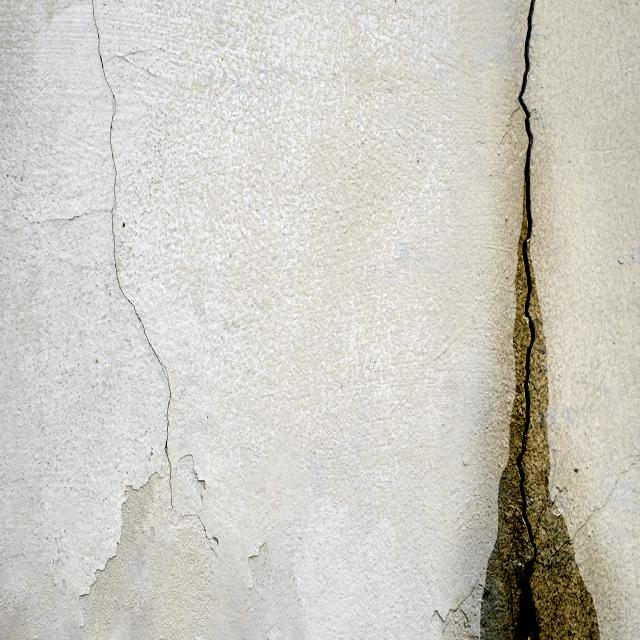Wall_Cracks: (65, 0, 610, 634)
